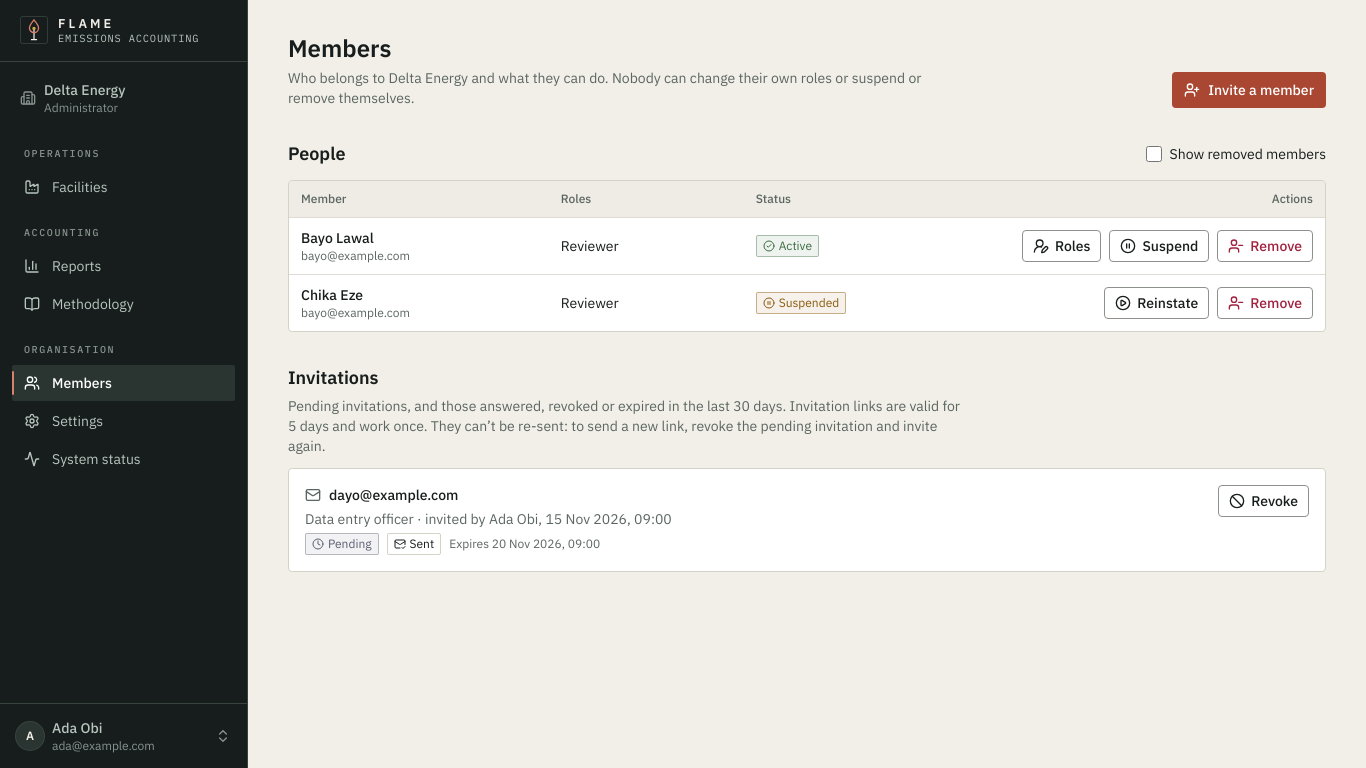
the members page › suspends and reinstates with a confirmation, and shows refusals in the dialog
This screenshot has width=1366, height=768.
Click the button with aria-label "Suspend Bayo Lawal": (1159, 246) [1109,230,1209,262]
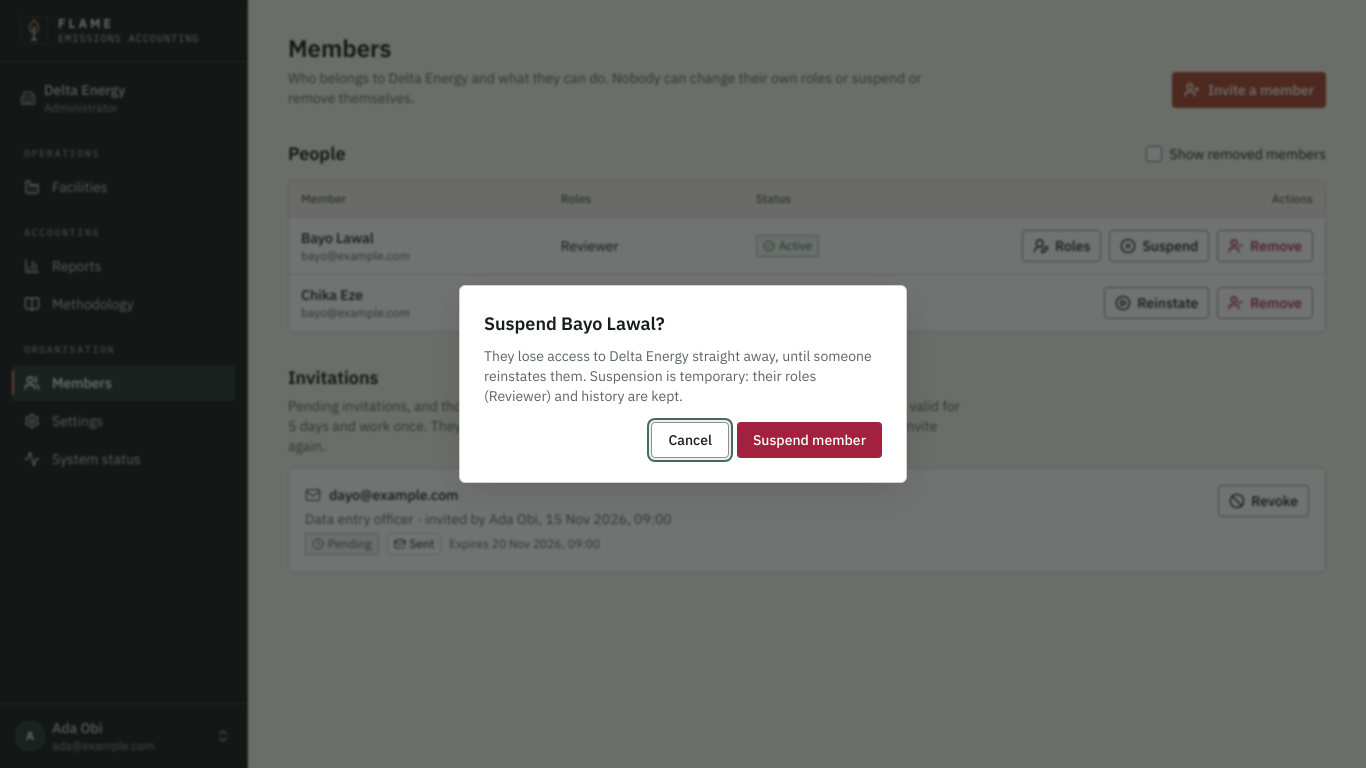
Expected: the dialog shows "Suspension is temporary", [484,347,872,405]
Click the button "Suspend member": (809, 440) [737,422,882,458]
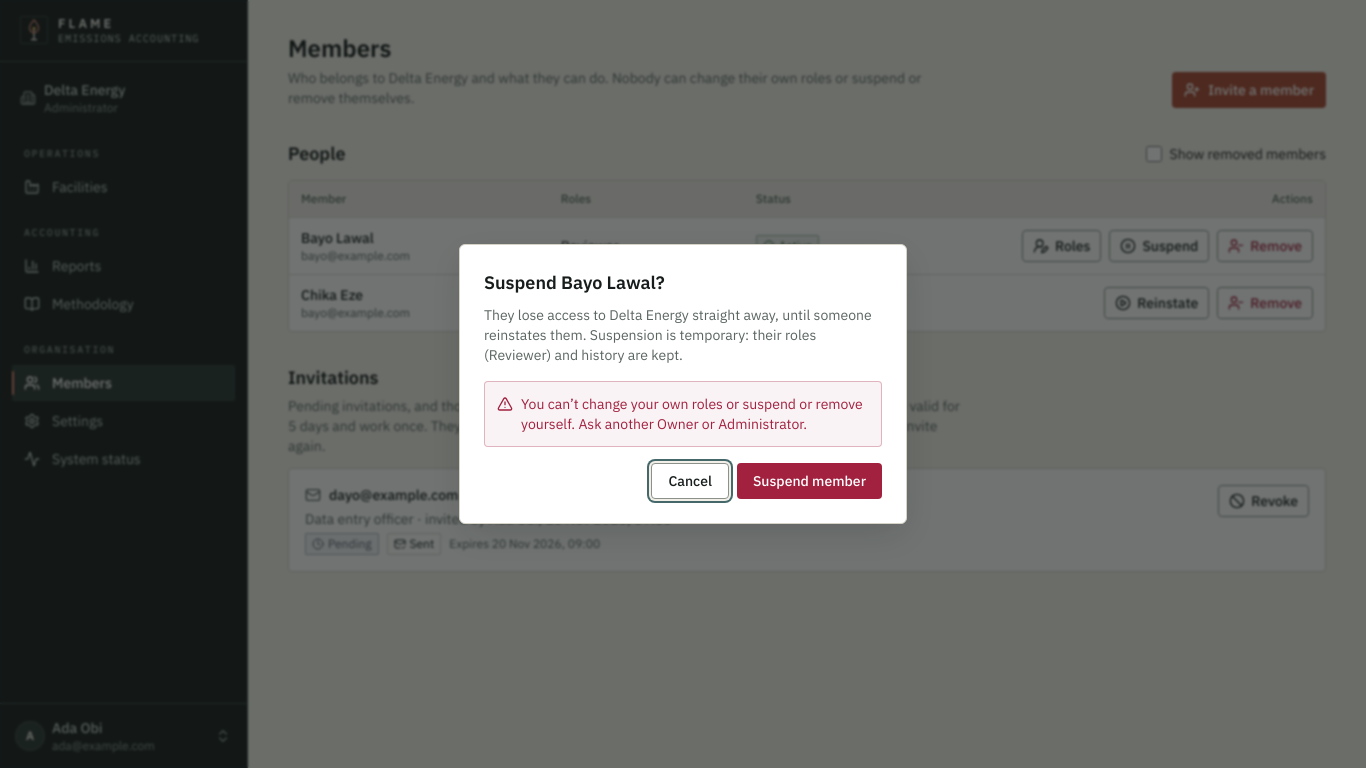
Expected: the message shows "You can’t change your own roles or suspend or remove yourself", [521,395,863,433]
Click the button "Cancel": (690, 481) [651,463,729,499]
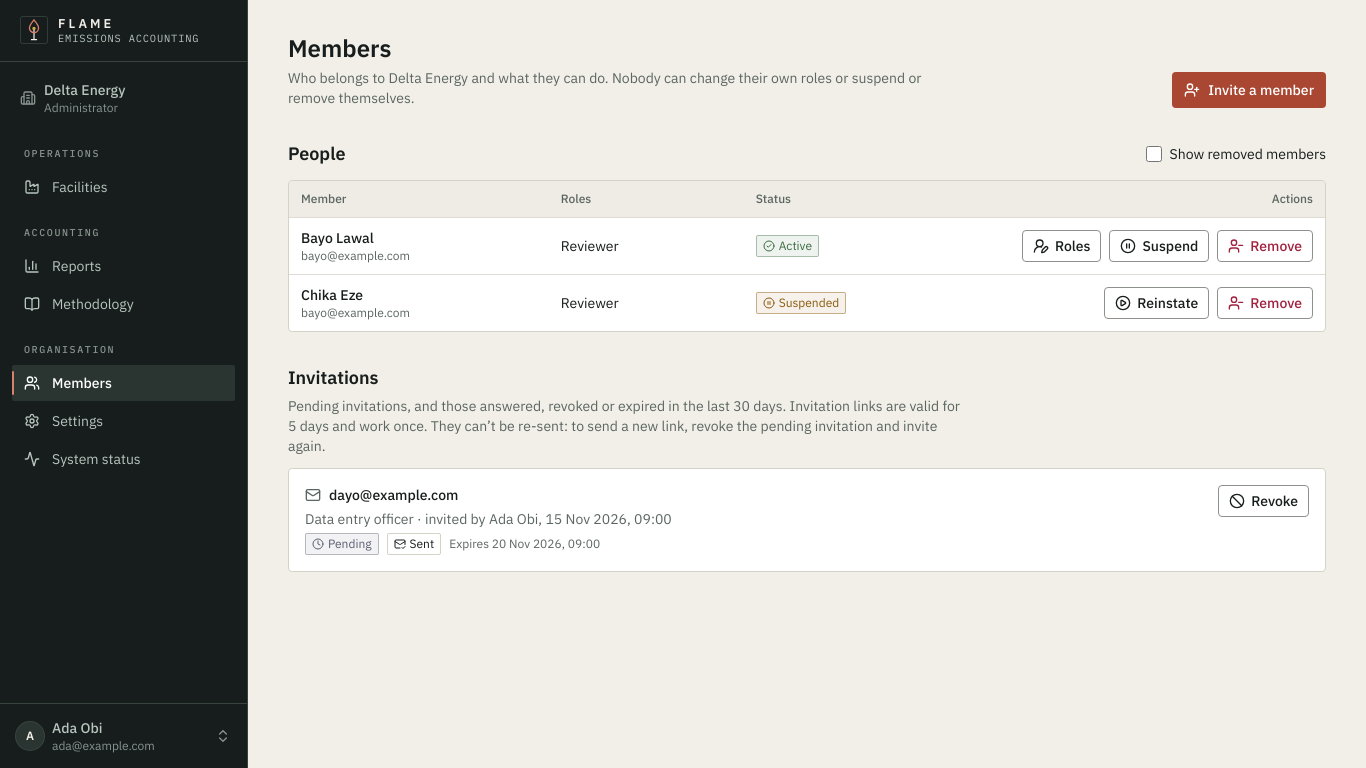
Expected: the dialog is gone
Click the button with aria-label "Reinstate Chika Eze": (1157, 302) [1104,286,1209,318]
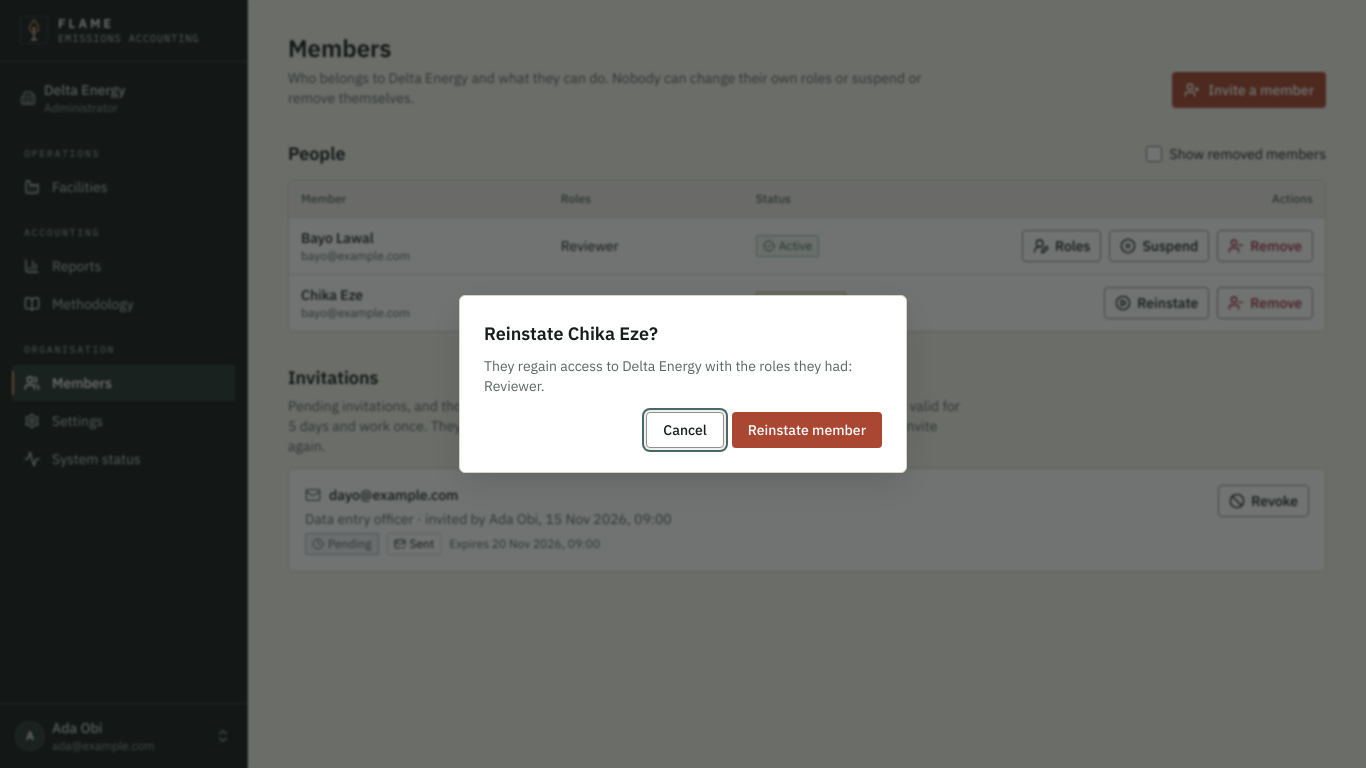
Click the button "Reinstate member": (807, 430) [732,412,882,448]
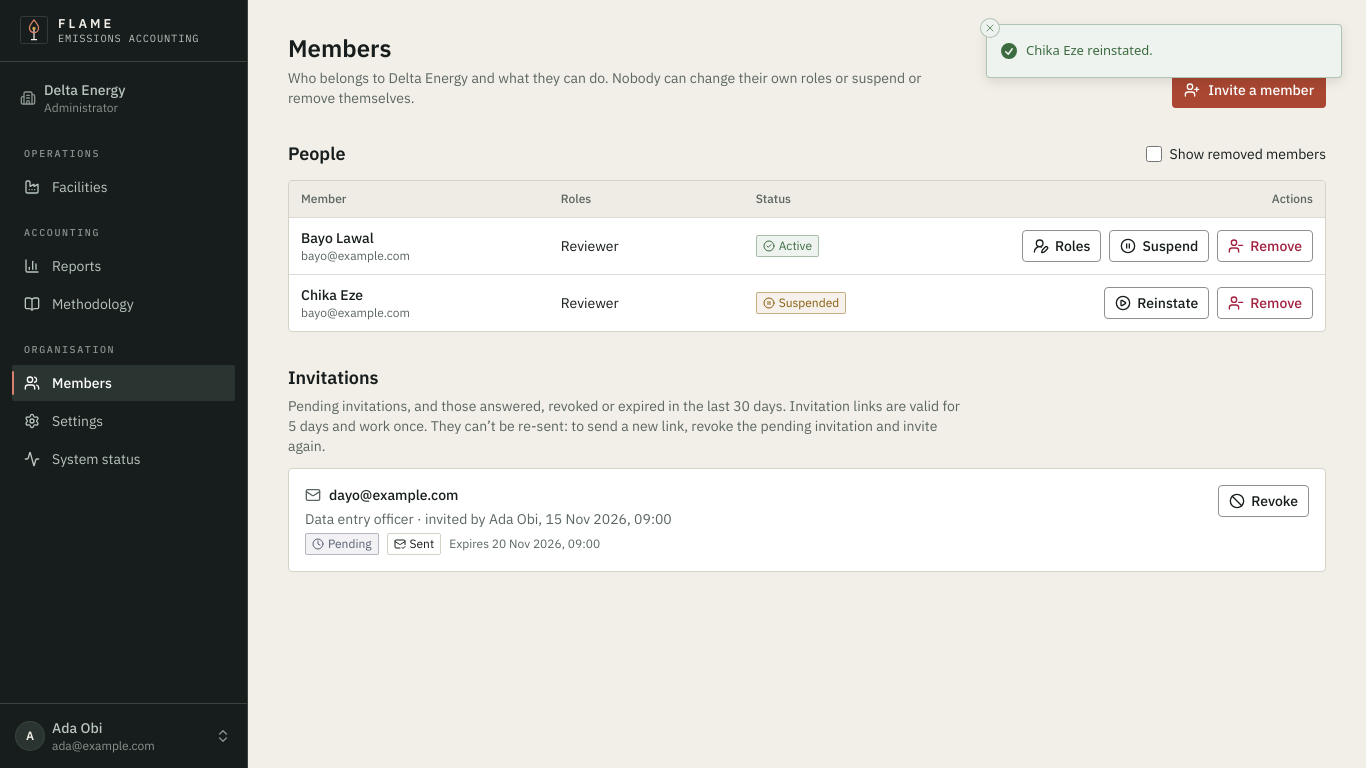
Expected: the text "Chika Eze reinstated." is shown, [1026,41,1153,60]
